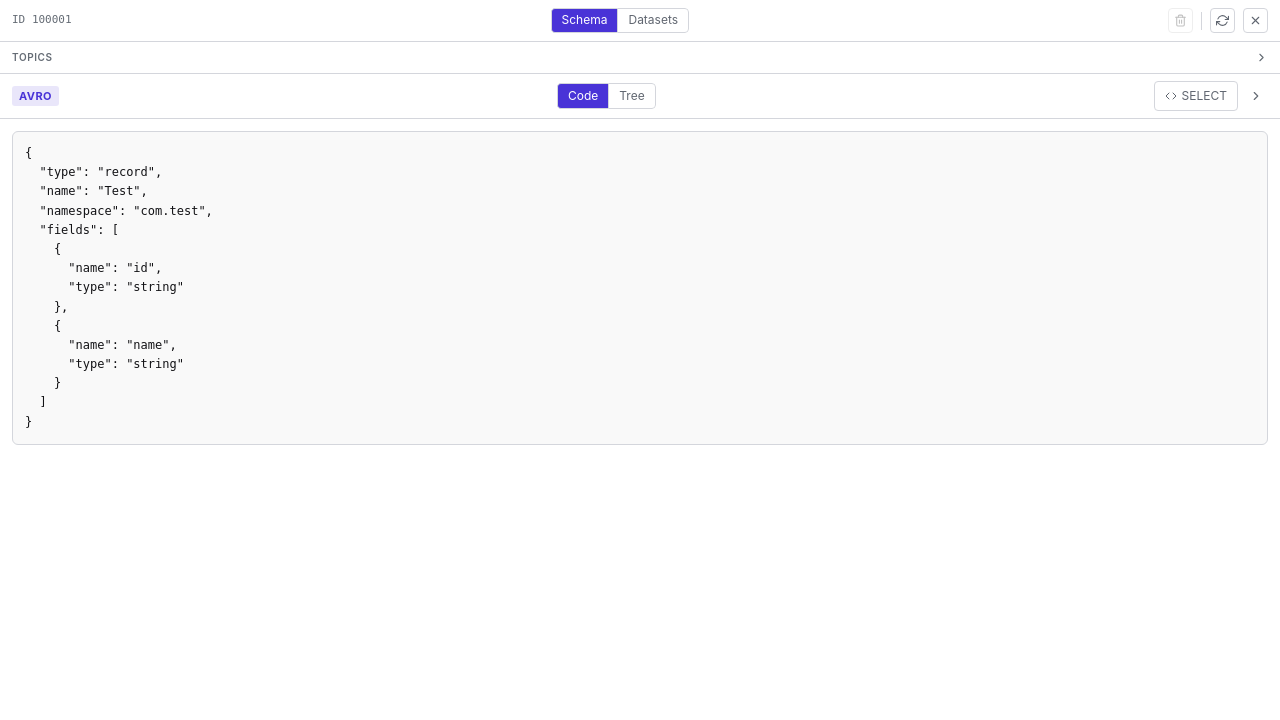
Test case: [@schema-detail-coverage] diff mode toggle and rendering › diff button is visible when versions >= 2
Click the button named "toggle schema controls".
click(1256, 96)  # box [1244,84,1268,108]
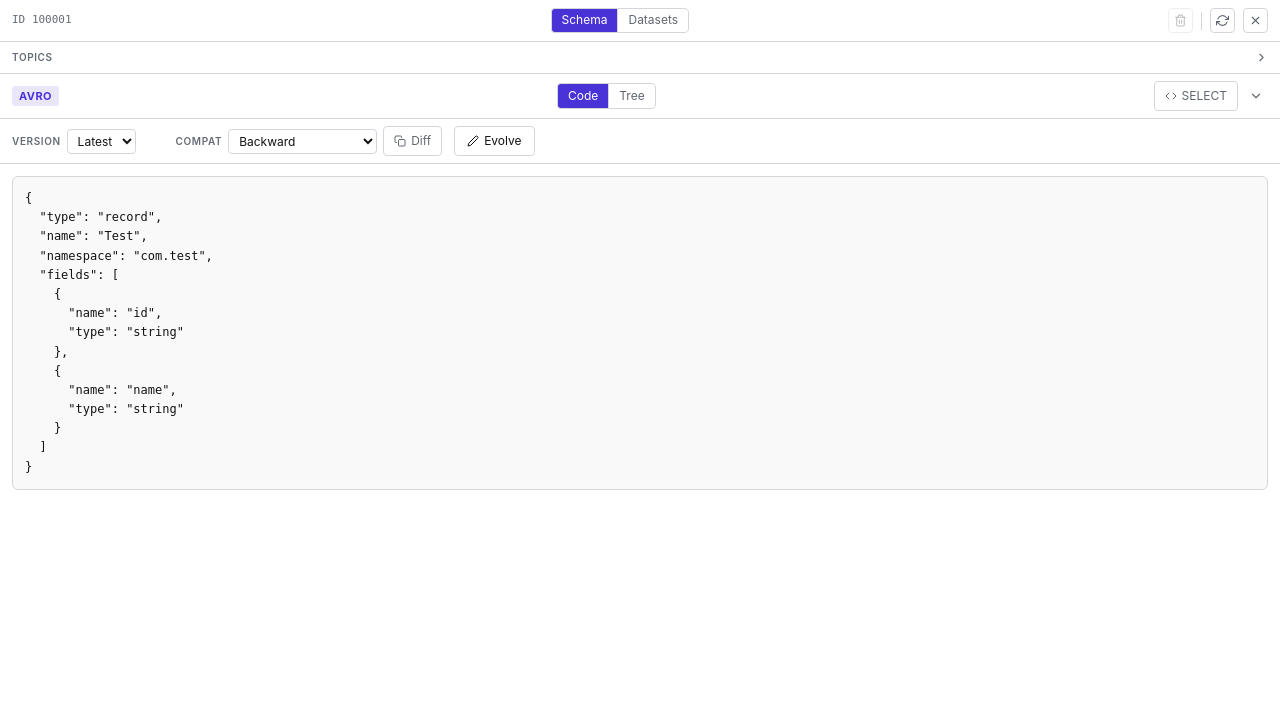
Result: the dropdown named "select schema version" is shown at [67,128,136,154]
Result: the button with aria-label "toggle diff view" is shown at [383,126,442,156]
